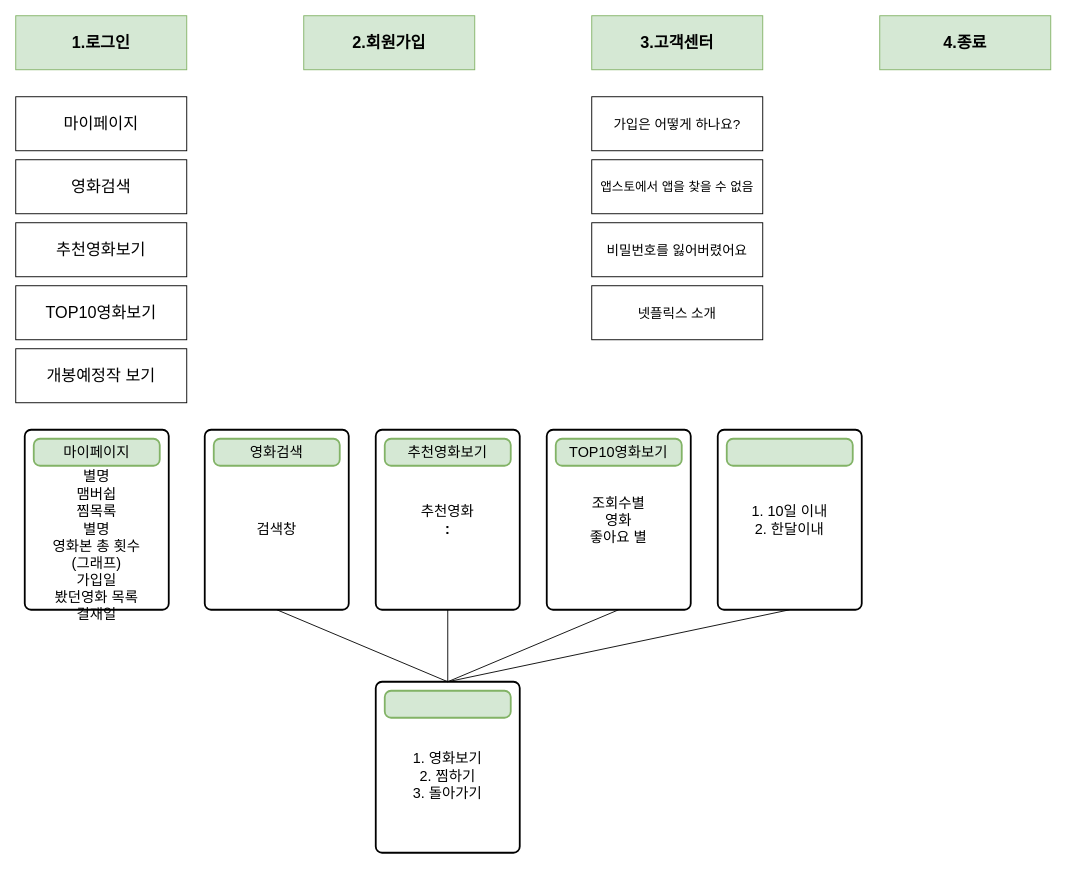
This 1067x869 diagram has some shape labels left out. The centre of each missing label's shape, as x and y in pixels:
개봉예정작: (789,451)
영화선택: (447,703)
